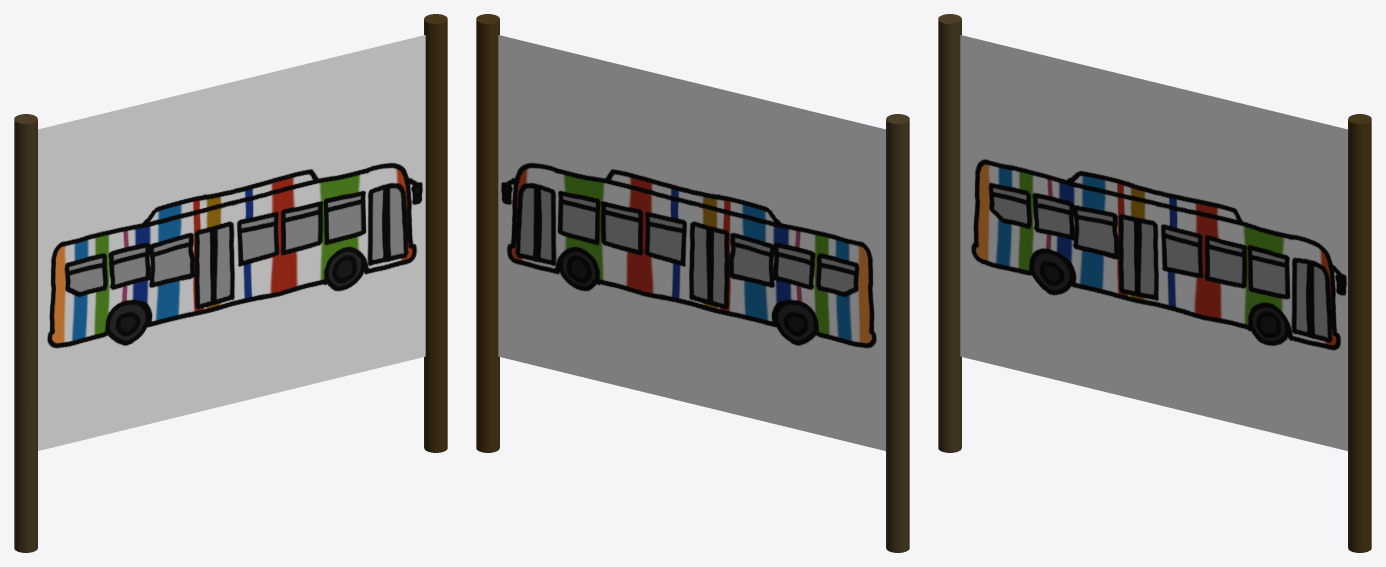
The model's file is Funfact_Luxembourgh.glb.
3 views of the same model, side by side, from view 1: azimuth 30°, elevation 25°; view 2: azimuth 150°, elevation 25°; view 3: azimuth 330°, elevation 25° (orthographic).
Visible parts, largest first — view 1: Plane, Cylinder, Cylinder.001; view 2: Plane, Cylinder, Cylinder.001; view 3: Plane, Cylinder.001, Cylinder.
Part boxes in pixels (box(x1,y1,x2,y2)): Plane: box(38, 35, 425, 450); Cylinder: box(14, 114, 37, 552); Cylinder.001: box(424, 14, 447, 452); Plane: box(498, 35, 885, 450); Cylinder: box(886, 114, 909, 552); Cylinder.001: box(476, 14, 499, 452); Plane: box(960, 35, 1347, 450); Cylinder.001: box(1348, 114, 1371, 552); Cylinder: box(938, 14, 961, 452).
Size of the model in its own units: 4.2 by 4 by 0.2.
3 materials, 1 textured.
